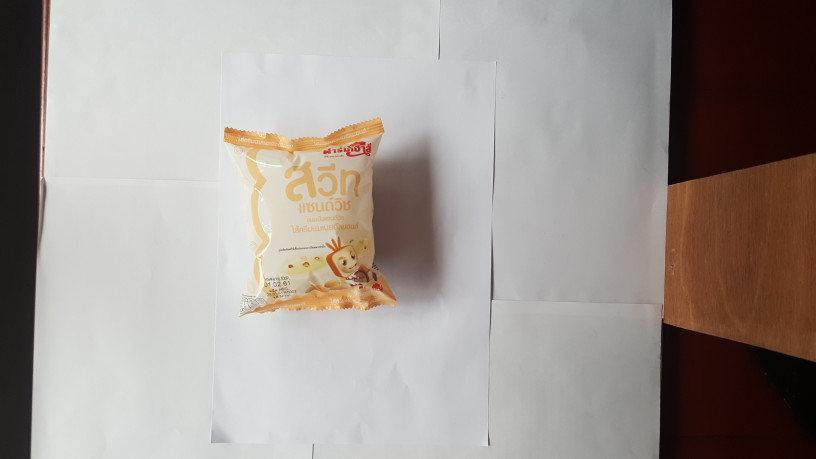farmhouse-sweetsandwich-almond: (217, 116, 401, 325)
